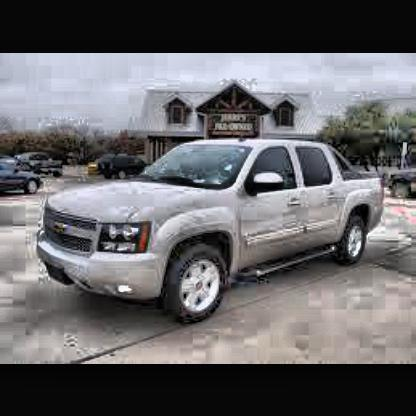Chevrolet Avalanche Crew Cab 2012: (40, 135, 385, 321)
